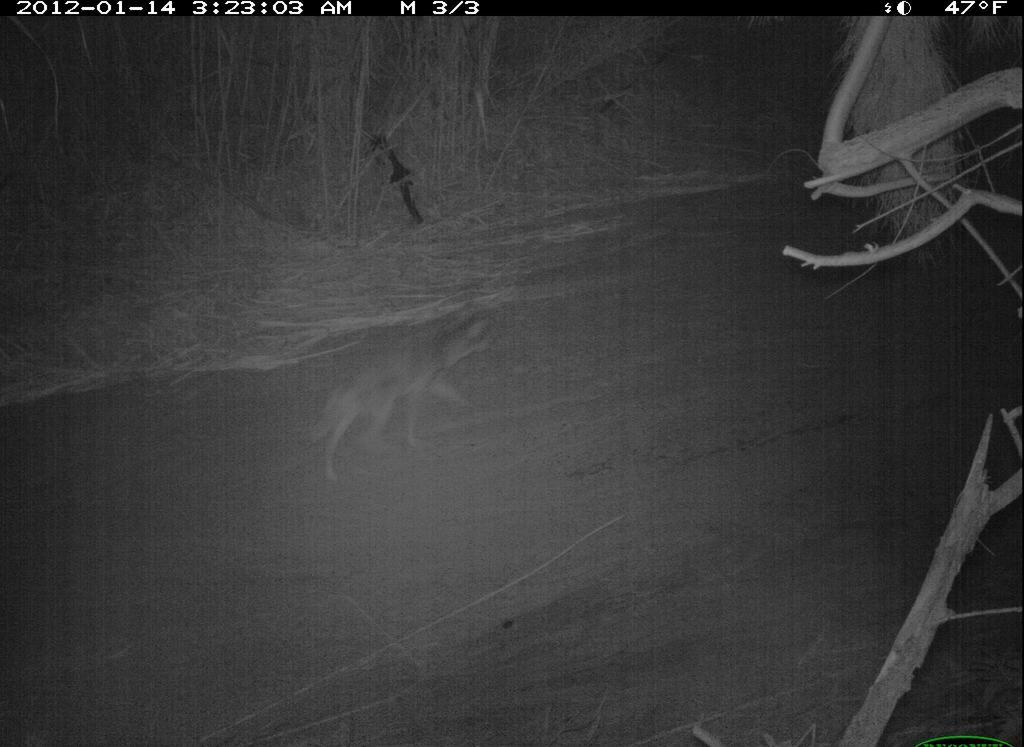coyote: (297, 299, 504, 489)
